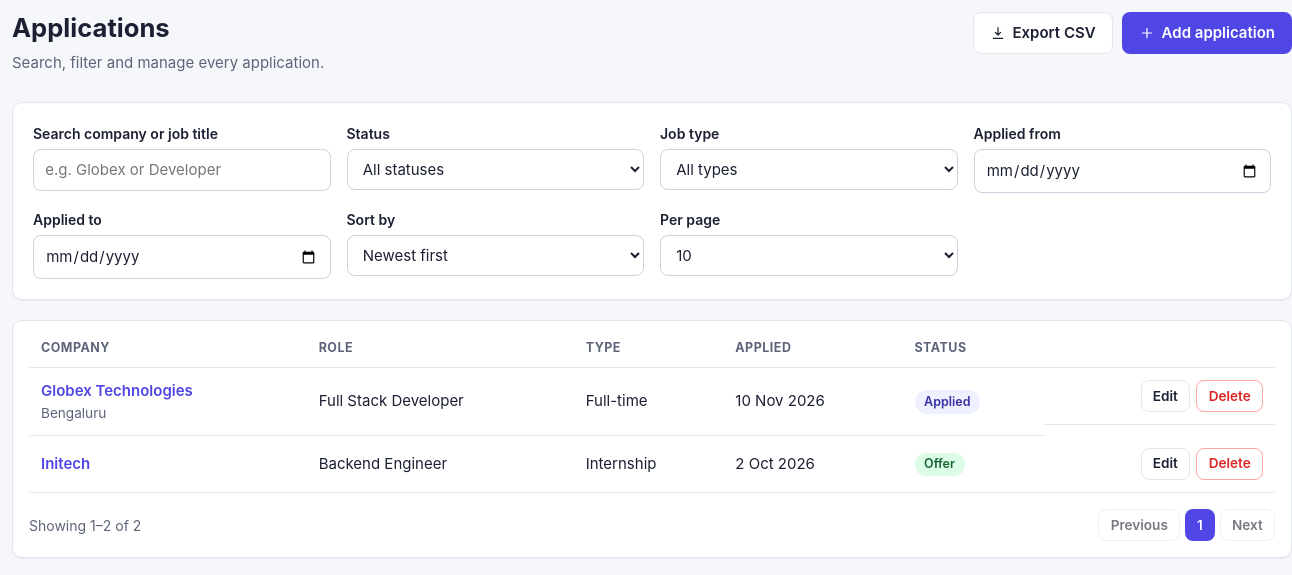
it: Applications page › filters by status through the API
Check: the link "Globex Technologies" is shown, box [41,381,193,400]
Select "Offer" in the dropdown labelled "Status" at (495, 170), box [346,149,644,190]
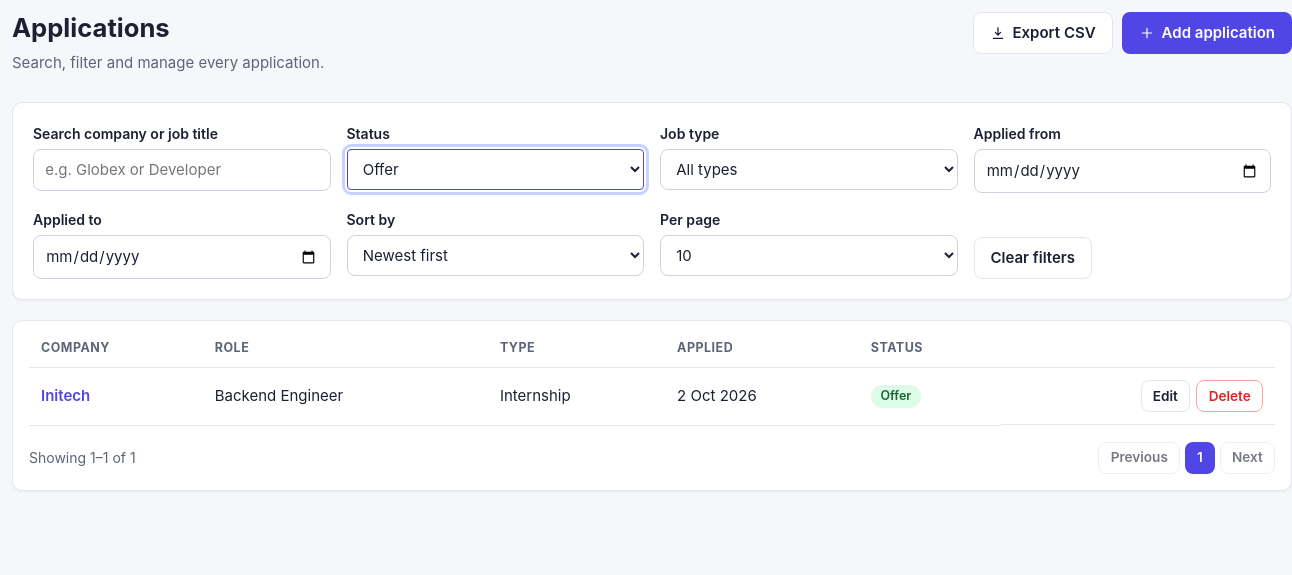
Check: the link "Initech" is shown, box [41,386,90,405]
Check: the link "Globex Technologies" is gone
